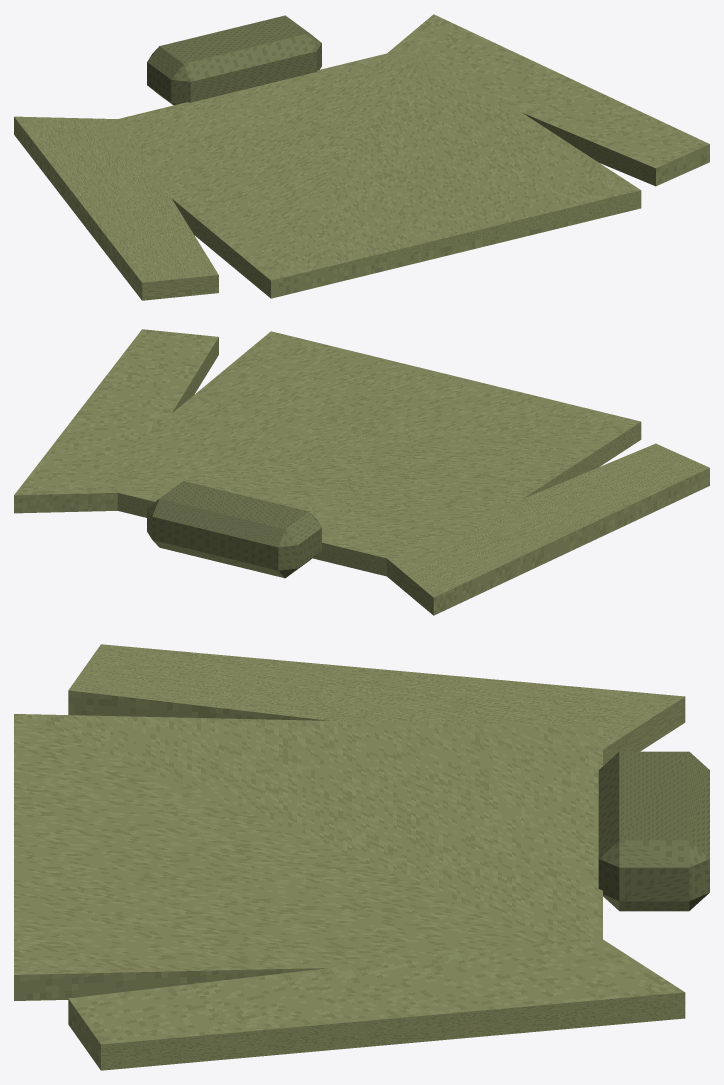
File: turtleneck_shirt.glb
3 renders of one model, top to bottom at view 1: azimuth 30°, elevation 25°; view 2: azimuth 150°, elevation 25°; view 3: azimuth 270°, elevation 25°, orthographic. The views are drawn at different scales.
Visible parts, largest first — view 1: block_shirt torso, block_sleeve or strap -1, block_sleeve or strap 1, block_raised rib-knit neck; view 2: block_shirt torso, block_sleeve or strap -1, block_sleeve or strap 1, block_raised rib-knit neck; view 3: block_shirt torso, block_sleeve or strap 1, block_sleeve or strap -1, block_raised rib-knit neck.
Boxes of the visible parts, x1,y1,x2,y2 form: block_shirt torso: (86, 45, 641, 298); block_sleeve or strap -1: (14, 116, 218, 300); block_sleeve or strap 1: (385, 14, 709, 186); block_raised rib-knit neck: (147, 15, 321, 105); block_shirt torso: (86, 331, 641, 576); block_sleeve or strap -1: (387, 443, 709, 615); block_sleeve or strap 1: (14, 329, 218, 513); block_raised rib-knit neck: (147, 481, 321, 578); block_shirt torso: (14, 714, 602, 1000); block_sleeve or strap 1: (68, 936, 685, 1070); block_sleeve or strap -1: (68, 644, 685, 765); block_raised rib-knit neck: (598, 751, 709, 911).
Size of the model in its own units: 0.46 by 0.04 by 0.338.
1 material, 1 textured.
